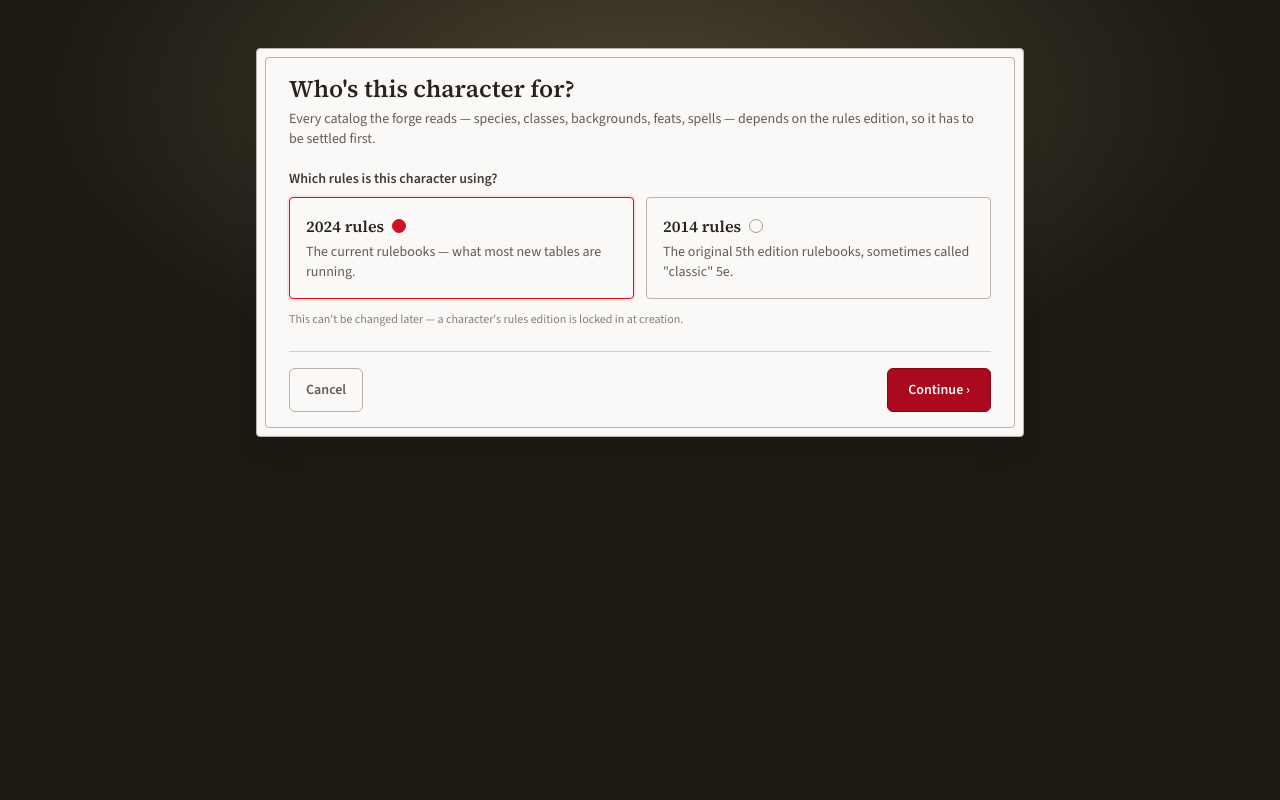
Test case: CharacterCreatePage — subclass gate per edition (#1325) › offers a 2024 Cleric no subclass at creation
Expected: the radio button labelled "2024 rules" is shown, x1=289 y1=197 x2=634 y2=299
Click the button "Continue ›".
click(939, 390)  # box x1=887 y1=368 x2=991 y2=412
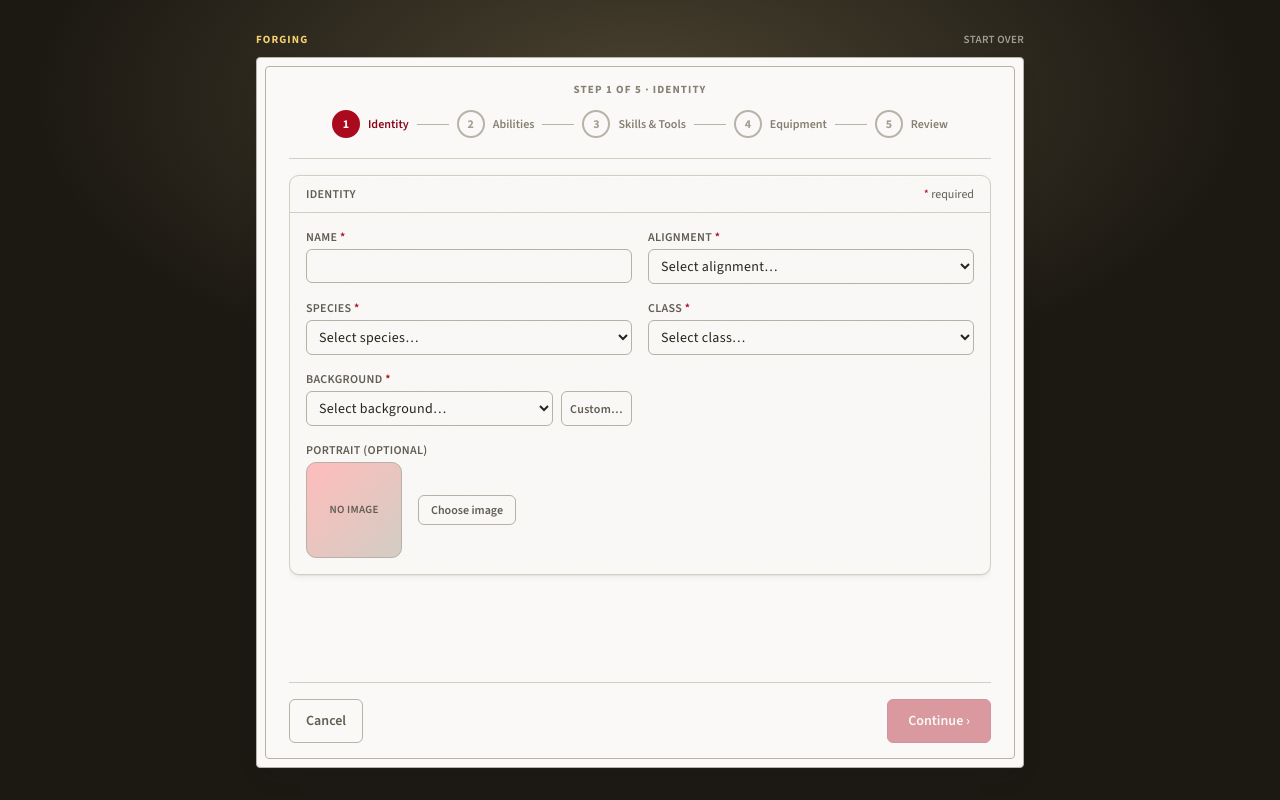
Select "Cleric" in the dropdown labelled "Class *" at (811, 338), box x1=648 y1=320 x2=974 y2=355
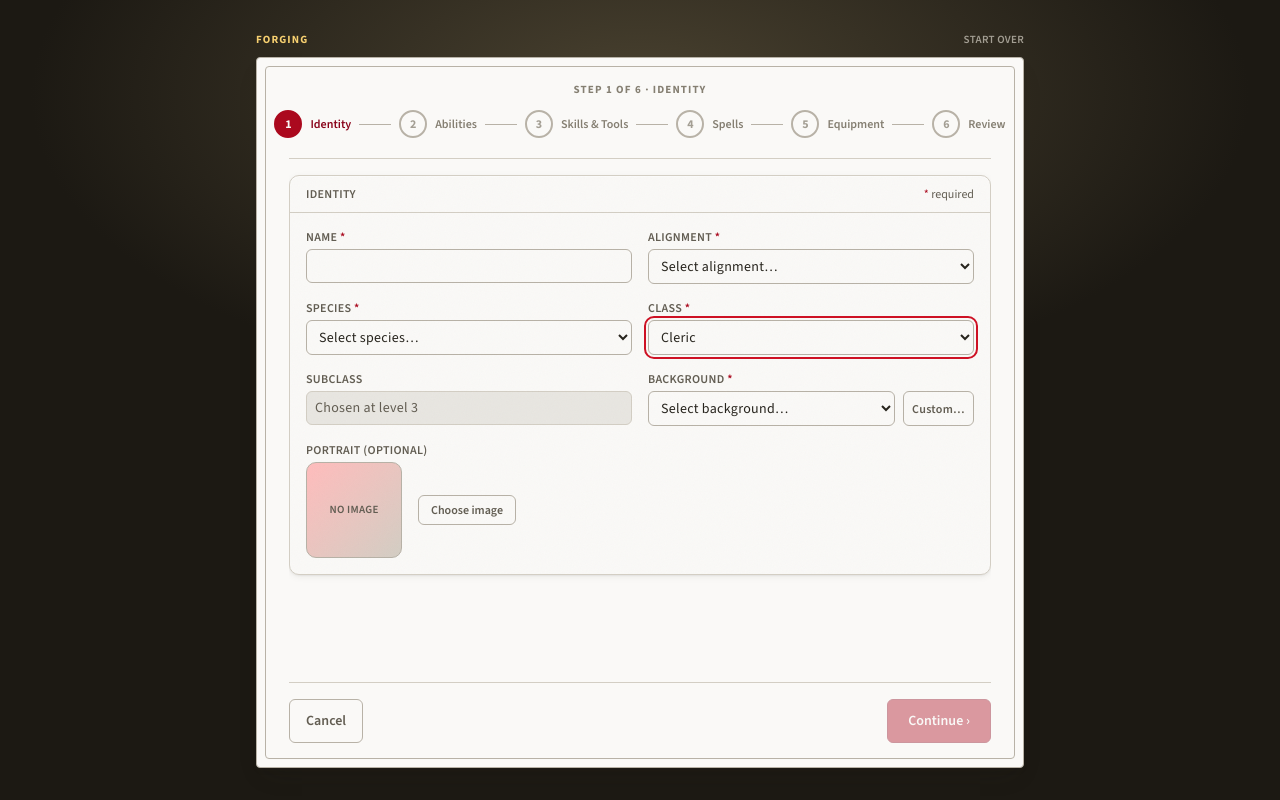
Expected: the text "Chosen at level 3" is shown, x1=306 y1=391 x2=632 y2=425
